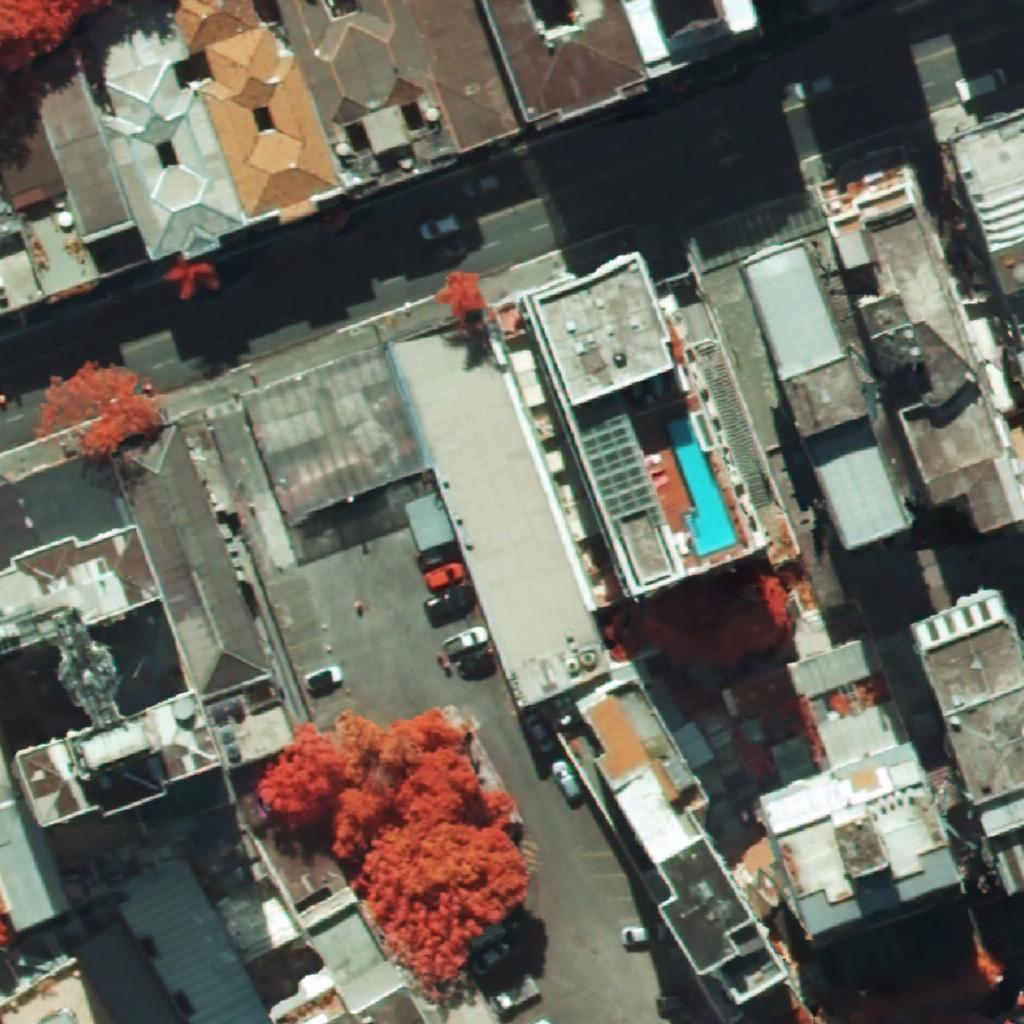pool: (665, 415, 739, 555)
